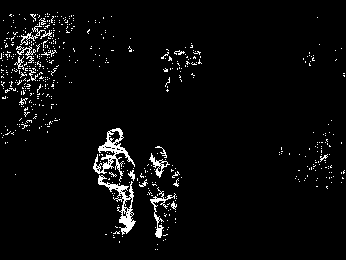person: (95, 127, 137, 239), (139, 144, 182, 241)
